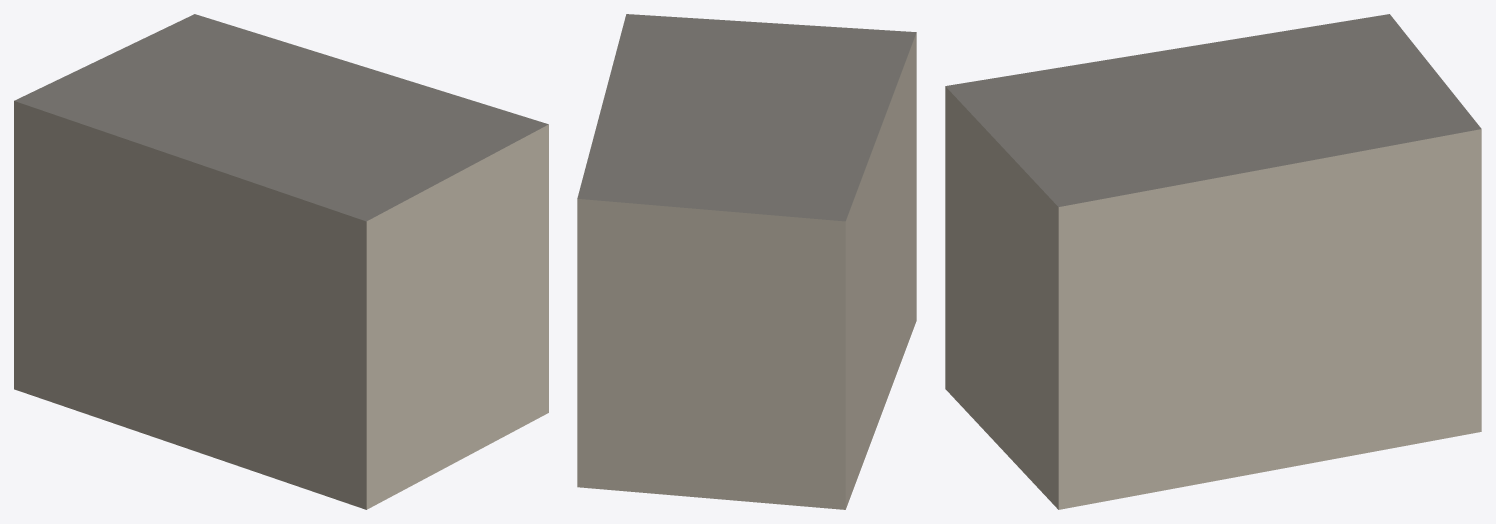
3 renders of one model, left to right at view 1: azimuth 30°, elevation 25°; view 2: azimuth 150°, elevation 25°; view 3: azimuth 270°, elevation 25°, orthographic. The views are drawn at different scales.
Visible parts, largest first — view 1: HP-w505643569; view 2: HP-w505643569; view 3: HP-w505643569.
Boxes of the visible parts, left/top/right/bottom form: HP-w505643569: left=14, top=14, right=548, bottom=509; HP-w505643569: left=577, top=14, right=916, bottom=509; HP-w505643569: left=945, top=14, right=1481, bottom=509.
Bounding box in the file's own units: 16.42 × 12 × 19.27.
